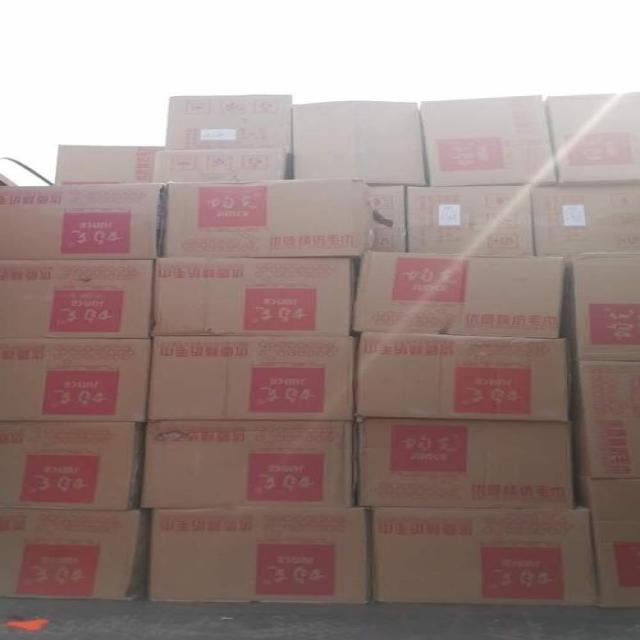box: (374, 507, 599, 608), (148, 507, 370, 605), (356, 418, 575, 509), (356, 332, 571, 421), (141, 420, 356, 509), (148, 334, 358, 421), (353, 252, 564, 338), (157, 179, 367, 257), (154, 256, 355, 336), (0, 508, 147, 601), (0, 182, 165, 261), (0, 337, 152, 422), (0, 421, 145, 510), (419, 95, 558, 186), (0, 258, 154, 339), (291, 101, 424, 186), (406, 184, 535, 256), (545, 92, 640, 185), (535, 183, 640, 256), (570, 253, 640, 362), (577, 361, 640, 479), (586, 476, 640, 608), (164, 95, 291, 150), (52, 144, 165, 184), (157, 150, 291, 182), (366, 186, 404, 252)
